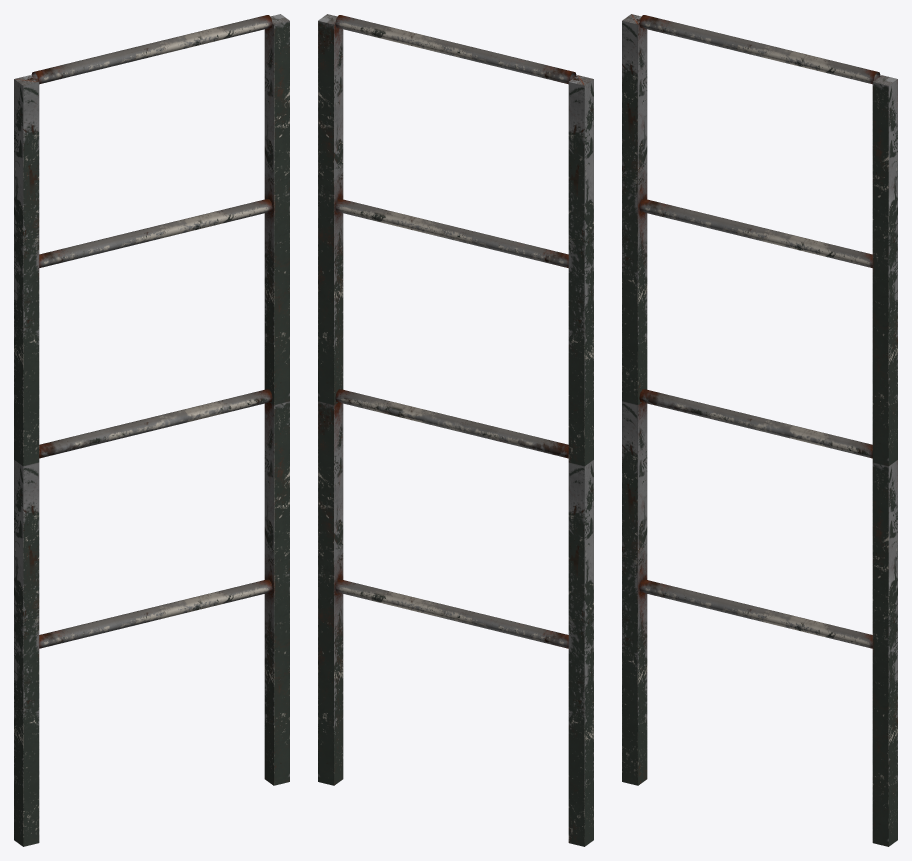
File: SM_Ladder_B.FBX
3 views of the same model, side by side, from view 1: azimuth 30°, elevation 25°; view 2: azimuth 150°, elevation 25°; view 3: azimuth 330°, elevation 25° (orthographic).
Parts seen in each view (by area): view 1: SM_Ladder_B_LOD0; view 2: SM_Ladder_B_LOD0; view 3: SM_Ladder_B_LOD0.
Part boxes in pixels (x1=…): SM_Ladder_B_LOD0: x1=14, y1=14, x2=289, y2=846; SM_Ladder_B_LOD0: x1=318, y1=14, x2=593, y2=846; SM_Ladder_B_LOD0: x1=622, y1=14, x2=897, y2=846.
Bounding box in the file's own units: 66 × 4 × 182.
